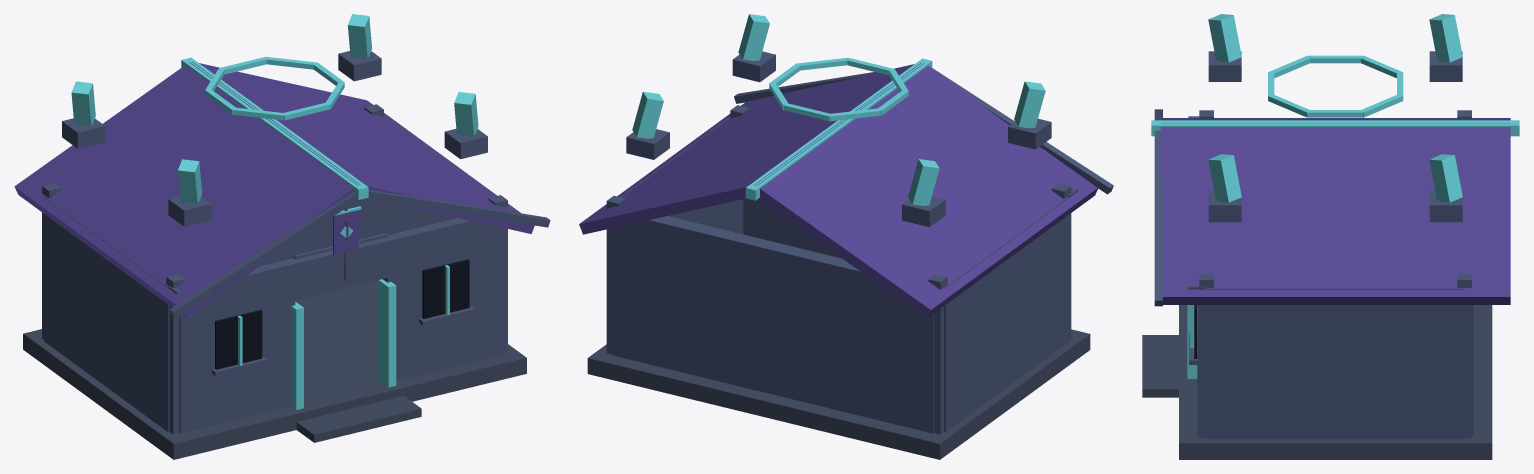
File: hall_mage_lv1.glb
The picture shows the model from 3 angles, left to right: view 1: azimuth 30°, elevation 25°; view 2: azimuth 150°, elevation 25°; view 3: azimuth 270°, elevation 25°; orthographic projection. The views are drawn at different scales.
Visible parts, largest first — view 1: hall_mage_lv1; view 2: hall_mage_lv1; view 3: hall_mage_lv1.
Boxes of the visible parts, <box> form: hall_mage_lv1: <box>14,14,550,459</box>; hall_mage_lv1: <box>579,14,1113,459</box>; hall_mage_lv1: <box>1142,14,1519,459</box>.
Size of the model in its own units: 24.56 by 17.15 by 20.5.
